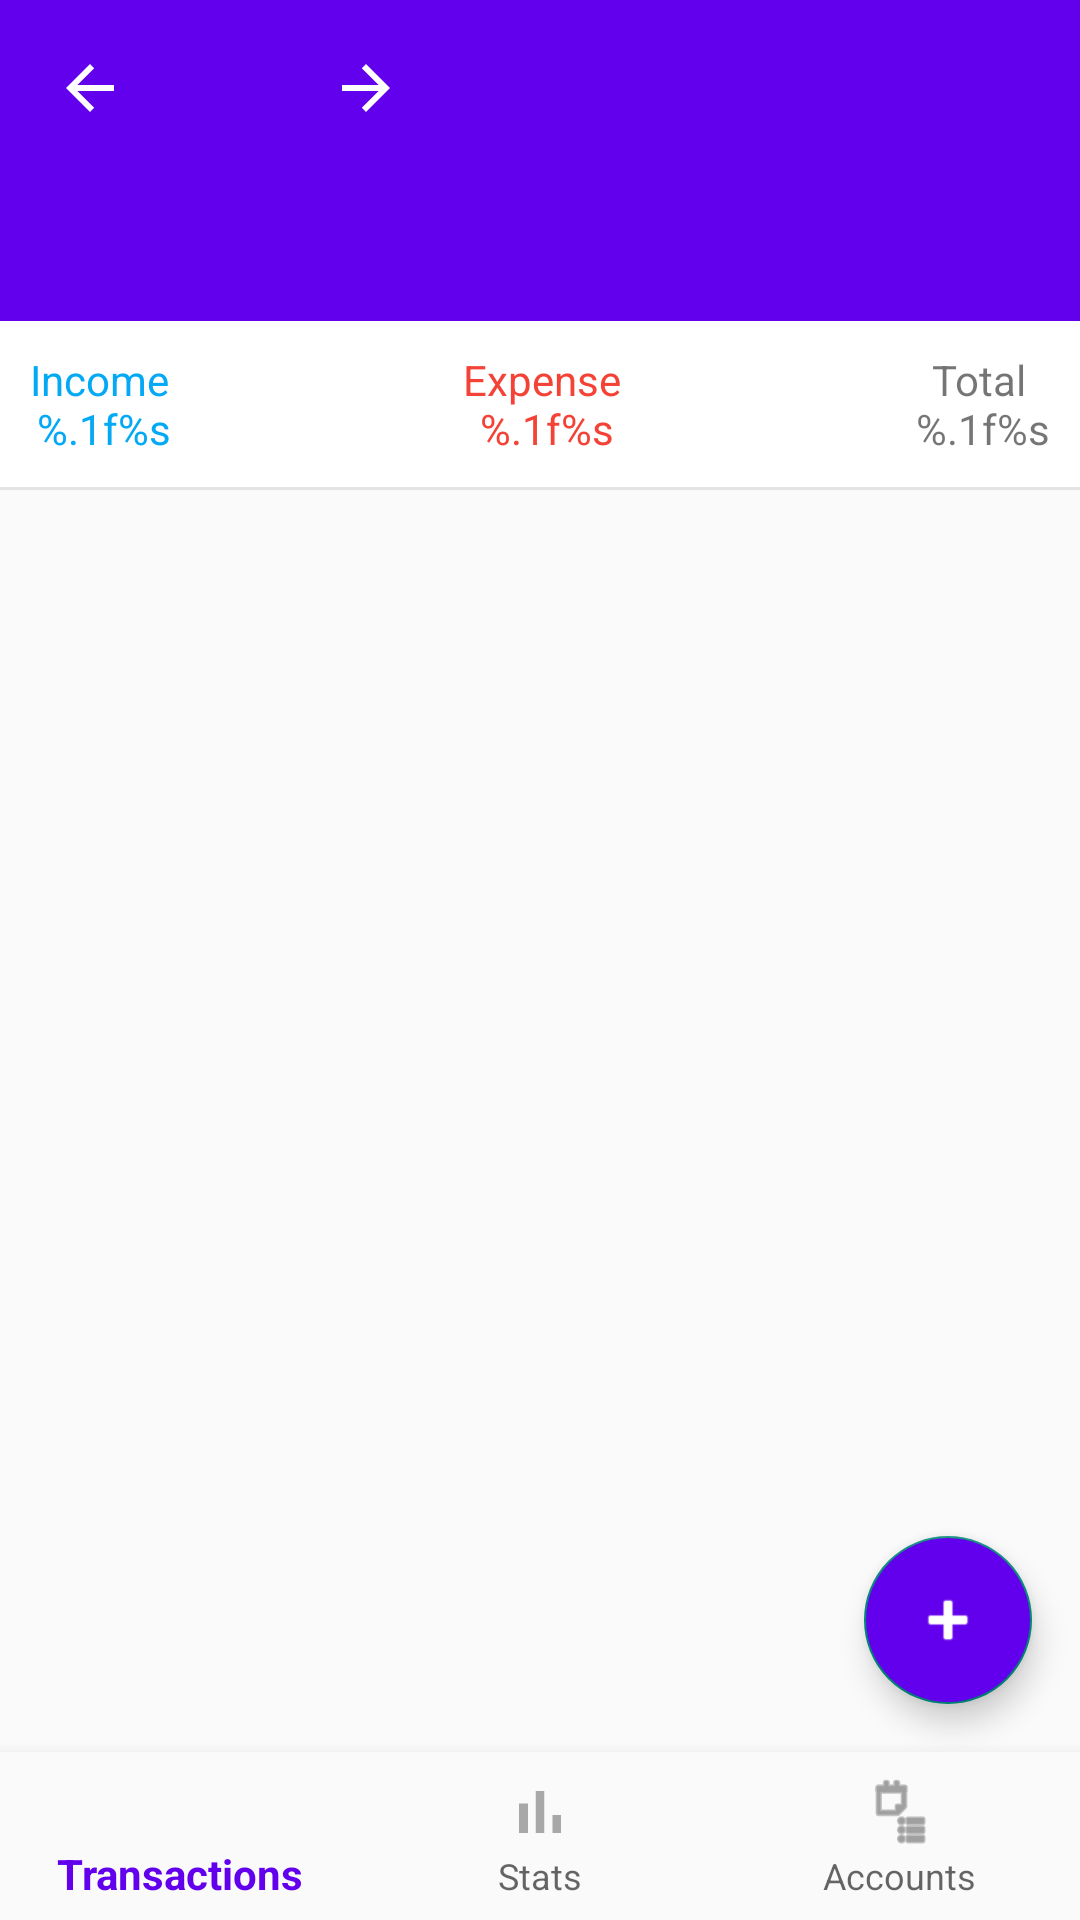

Icon click points for this 1080x1920 phone screenshot, format [x,y]:
add: [948,1620]
